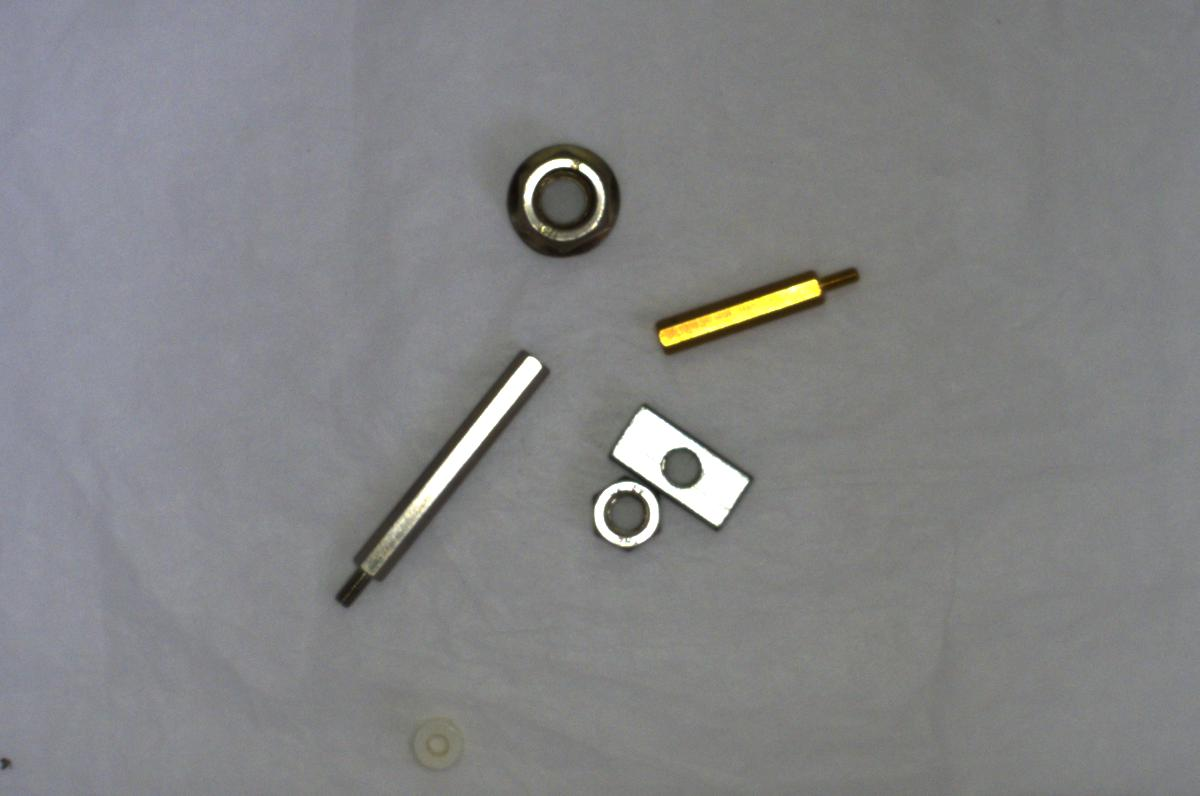Flange nut: (490, 134, 635, 269)
Hexagon nut: (584, 466, 665, 554)
Hexagon pillar: (648, 250, 873, 355)
Hexagonal steel column: (331, 340, 553, 613)
Plastic cushion pillar: (407, 710, 468, 773)
Rectangular nut: (600, 401, 755, 533)
